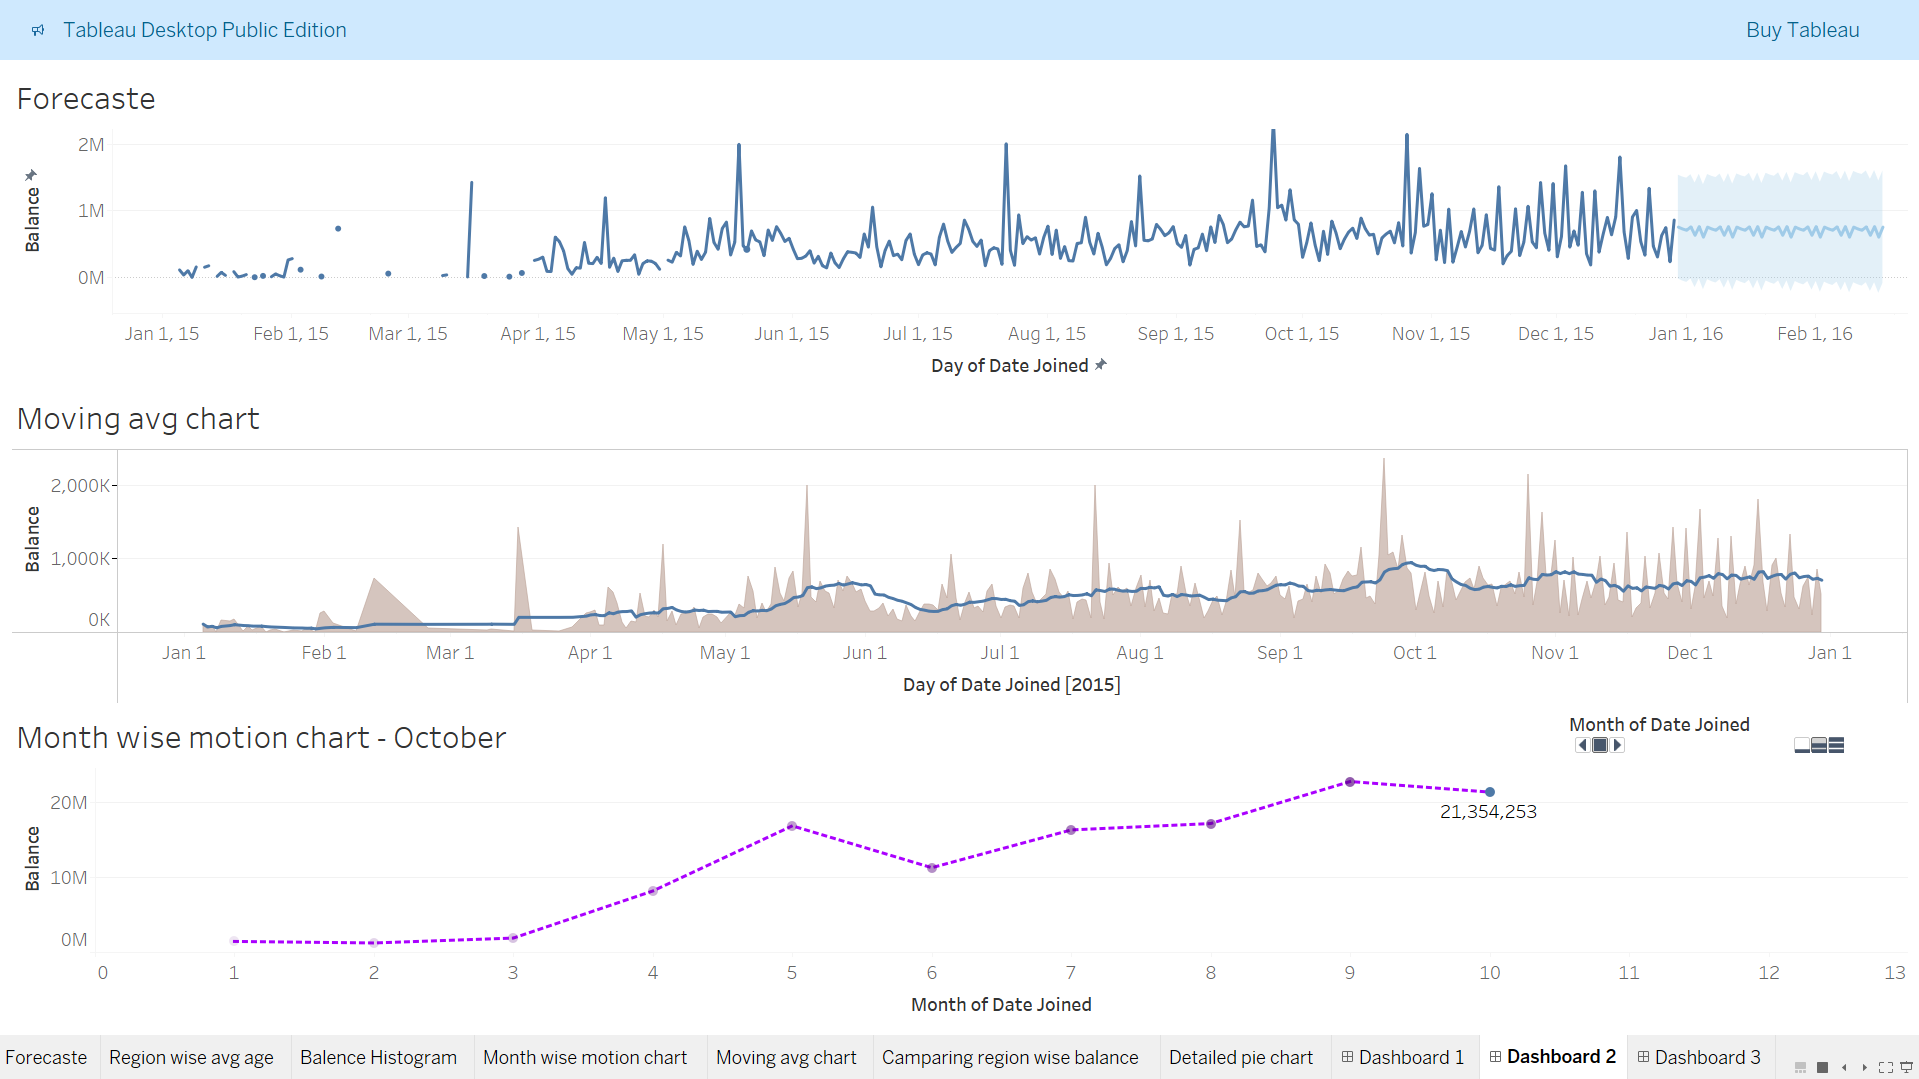

The page's visual inventory and layout, read from the dashboard file:
{"tool":"tableau","page":{"name":"Dashboard 2","canvas":[1000,1000],"units":"permille","ordinal":1},"visuals":[{"type":"worksheet","title":"Forecaste","mark":"Automatic","rows":["Balance"],"cols":["Date Joined"],"box":[4.2,8.2,991.7,327.8]},{"type":"worksheet","title":"Moving avg chart","mark":"Area","rows":["Balance"],"cols":["Date Joined"],"box":[4.2,336,991.7,327.9]},{"type":"worksheet","title":"Month wise motion chart","mark":"Circle","rows":["Balance"],"cols":["Date Joined"],"box":[4.2,663.9,991.7,327.9]},{"type":"currpage","title":"Month wise motion chart","box":[817.3,667.6,146.5,61.7]}]}

Visuals, with their boxes on the dashboard's canvas, which has no fixed pixel size, in thousandths of its width and height (x1, y1, x2, y2). These are canvas units, not pixel positions in the 1919x1079 screenshot, which may show the page scaled, cropped or inside an application window:
"Forecaste" worksheet: box(4, 8, 996, 336)
"Moving avg chart" worksheet (Area marks): box(4, 336, 996, 664)
"Month wise motion chart" worksheet (Circle marks): box(4, 664, 996, 992)
"Month wise motion chart" currpage: box(817, 668, 964, 729)
